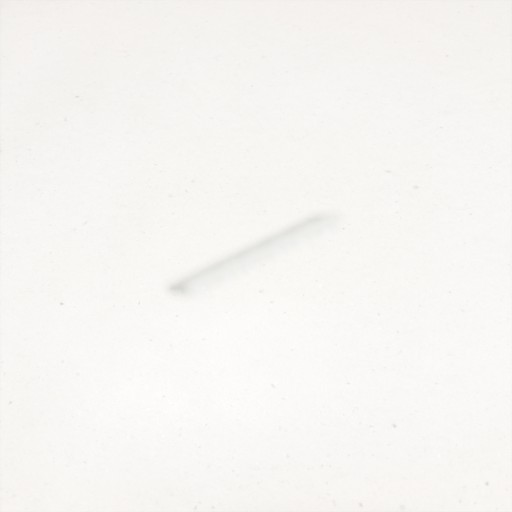lego: (164, 211, 344, 299)
